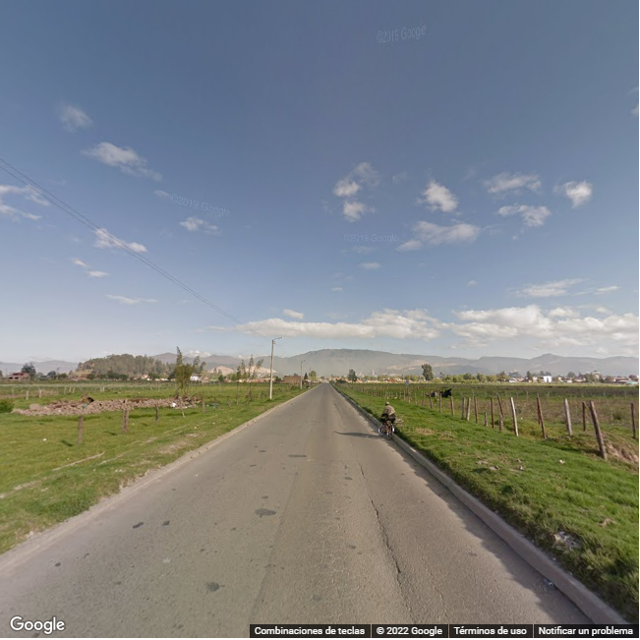D00: (369, 491, 420, 625), (421, 553, 449, 626)
